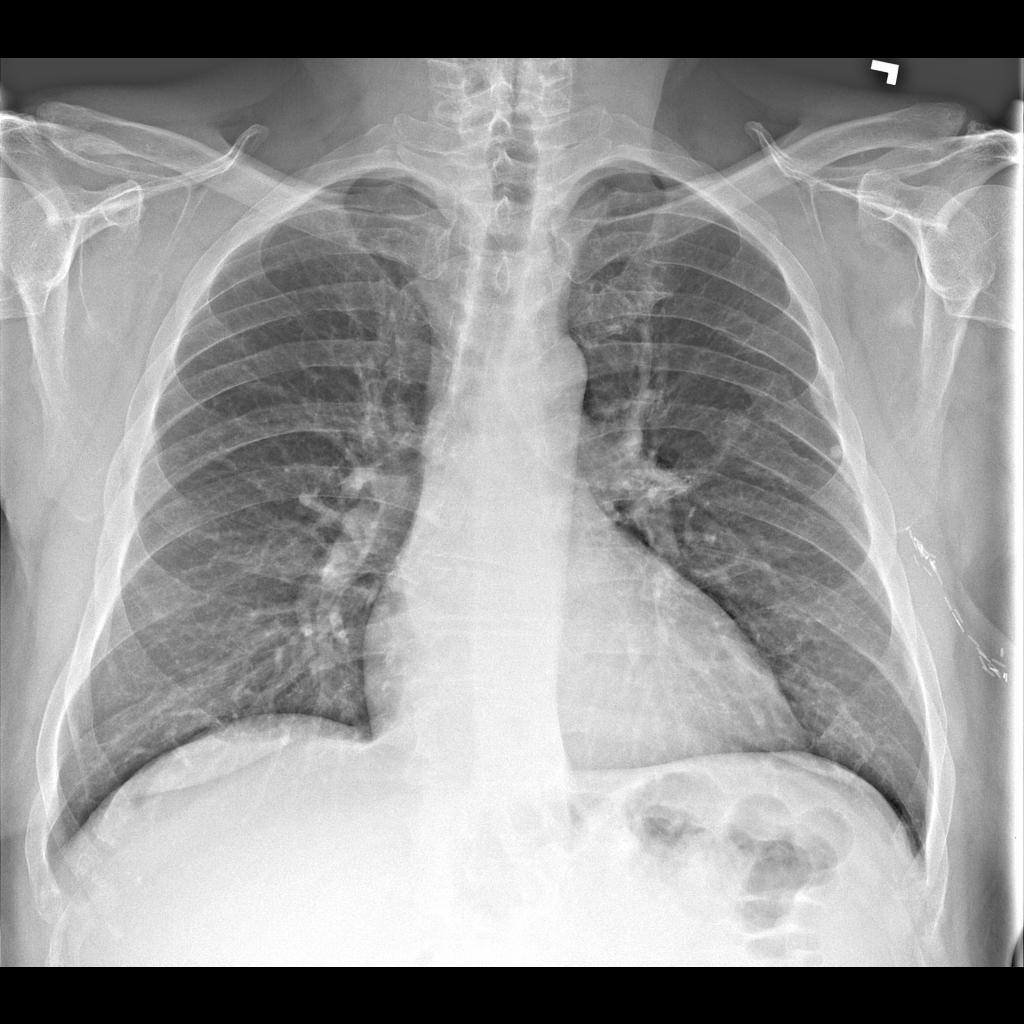Nodule: (720, 404, 754, 443), (820, 436, 850, 469)
